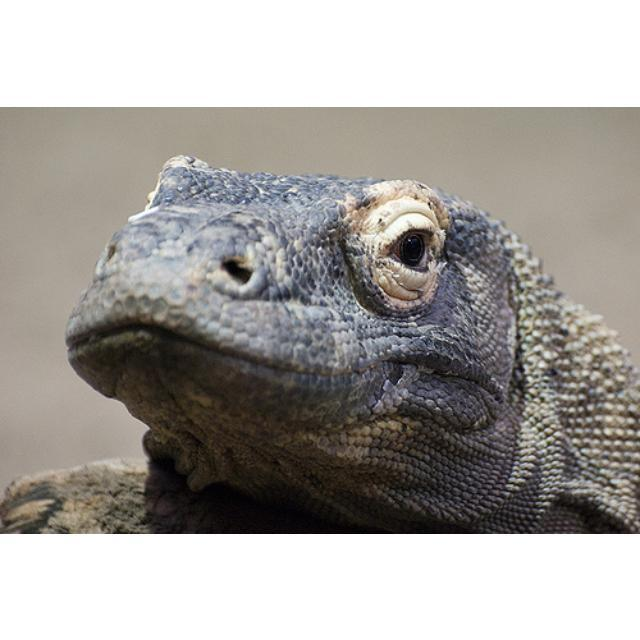KomodoDragon: (51, 133, 637, 531)
